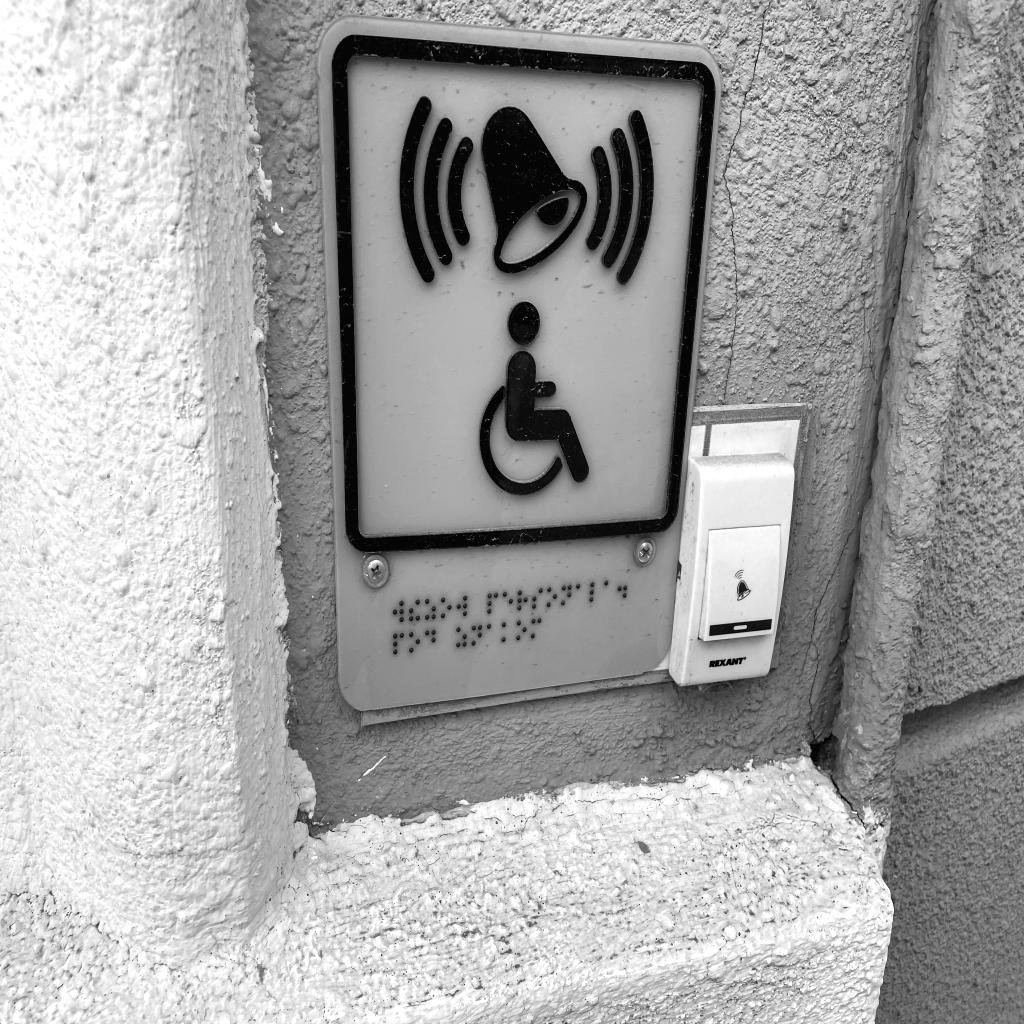_n: (561, 585, 572, 606), (471, 625, 482, 645)
a: (576, 583, 587, 605), (604, 580, 614, 601), (487, 623, 497, 644)
d: (425, 629, 436, 650)
e: (502, 591, 514, 612)
ii: (409, 599, 420, 622)
k: (501, 622, 512, 642)
l: (589, 581, 600, 603)
m: (531, 618, 542, 638)
o: (440, 598, 452, 619), (546, 587, 557, 608), (409, 632, 420, 653), (516, 620, 527, 640)
p: (393, 632, 404, 655), (487, 592, 498, 614)
r: (517, 590, 528, 610)
s: (532, 588, 543, 609)
tochka: (617, 578, 628, 599)
v: (456, 595, 468, 617), (393, 600, 404, 623)
z: (425, 599, 437, 621), (456, 627, 467, 648)
